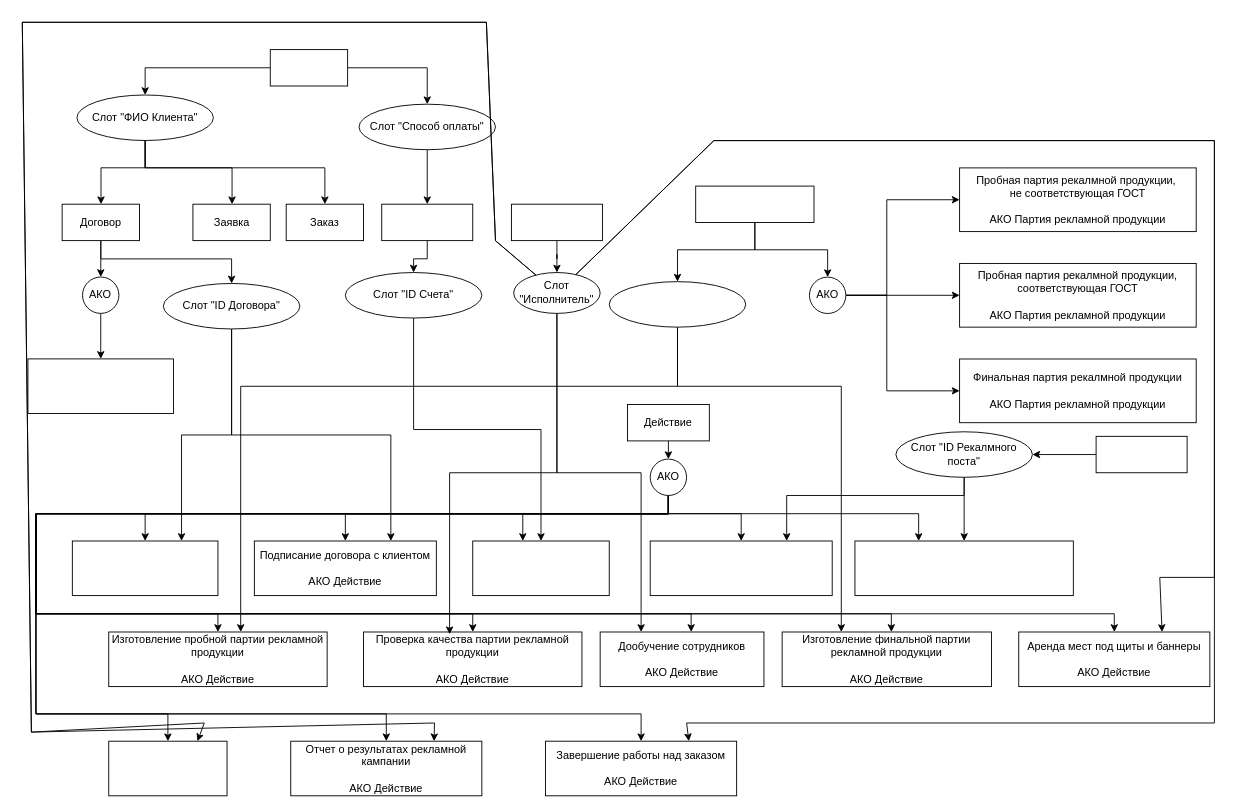
The diagram is 1238 pixels wide and 812 high, and some of its shapes have lost their labels. The shapes that lost their labels are listed below. From the top down, each one's centre as x and y in pixels, then its label:
point 308,67: Клиент
point 427,222: Счет на оплату
point 556,222: Агентство
point 754,203: Партия рекламной продукции
point 677,304: Слот "Содержание"
point 100,386: Дополнительное соглашение к договору АКО Договор
point 1141,454: Рекламный пост в соц. сетях
point 144,568: Составление договора АКО Действие
point 540,568: Расчет с клиентом АКО Действие
point 740,568: Публикация рекламного поста АКО Действие
point 963,568: Сбор статистики по рекламному посту АКО Действие
point 167,768: Найм студентов АКО Действие
